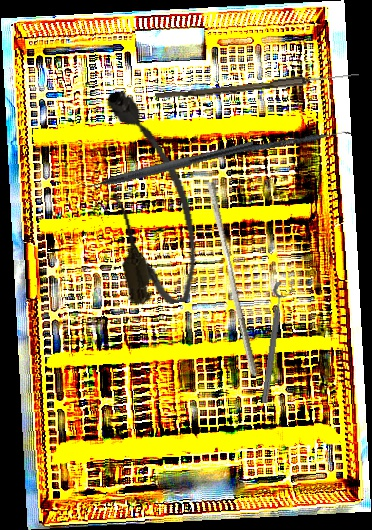Cannula: (92, 82, 208, 312)
Chopper: (71, 128, 255, 197)
Fixation Ring: (257, 281, 295, 405)
Pusher: (199, 180, 267, 379)
Spatula Surgical: (222, 126, 353, 159)
Surgical Spoon: (155, 68, 360, 104)
